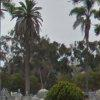Palm tree: (11, 1, 44, 99)
